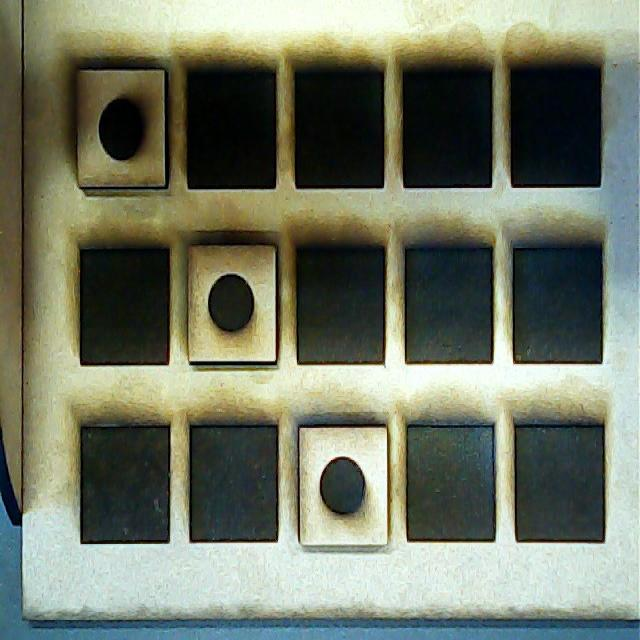circle: (71, 64, 169, 188), (297, 422, 391, 549), (186, 245, 281, 367)
nothing: (74, 410, 178, 554), (507, 51, 609, 197), (286, 46, 388, 192), (399, 235, 500, 374), (402, 411, 500, 550), (180, 59, 281, 192)
